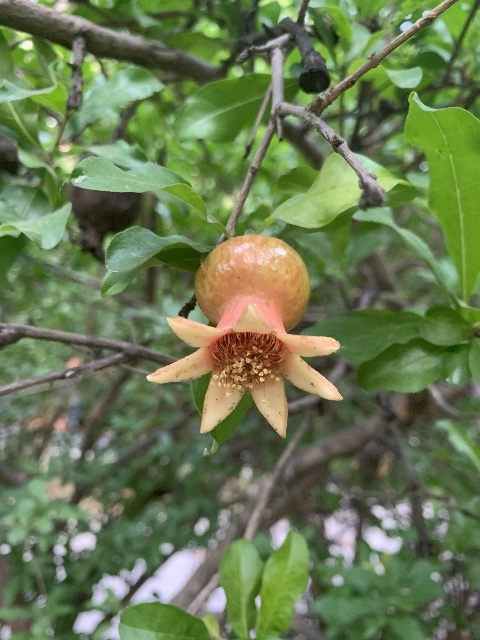early-fruit: (146, 234, 344, 440)
